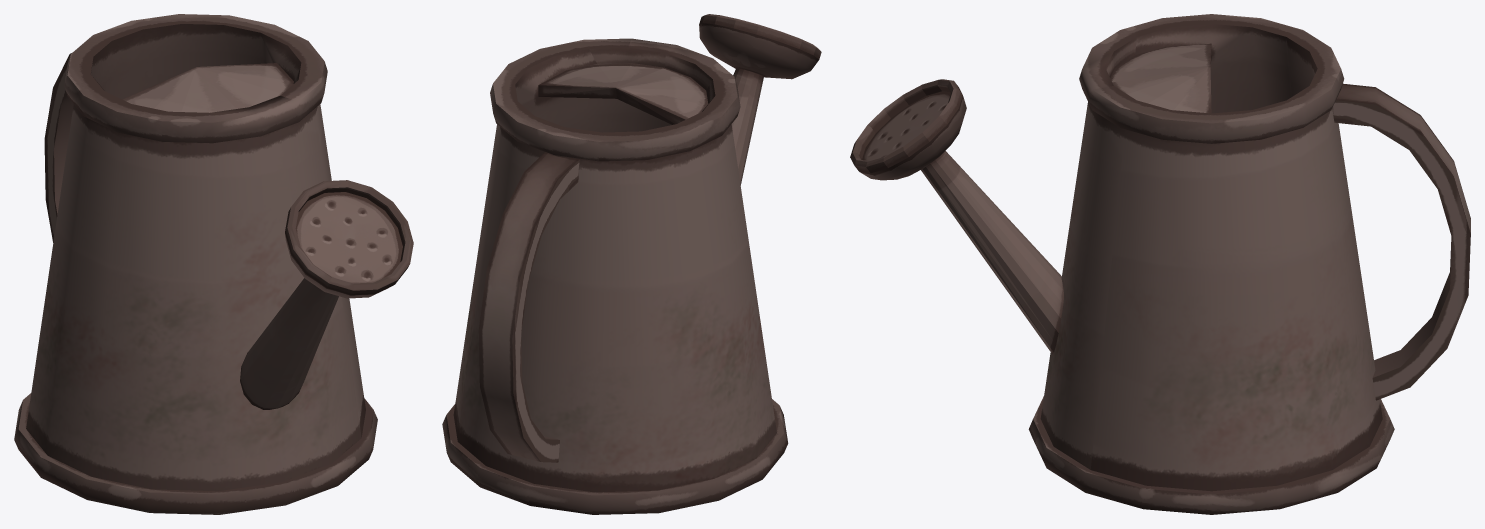
The model's file is Watering Can.fbx.
3 views of the same model, side by side, from view 1: azimuth 30°, elevation 25°; view 2: azimuth 150°, elevation 25°; view 3: azimuth 270°, elevation 25° (orthographic). The views are drawn at different scales.
Visible parts, largest first — view 1: Watercan Body, Nozzle, handle; view 2: Watercan Body, handle, Nozzle; view 3: Watercan Body, Nozzle, handle.
Part boxes in pixels (<box>): Watercan Body: <box>14,14,377,514</box>; Nozzle: <box>240,180,413,409</box>; handle: <box>44,53,73,242</box>; Watercan Body: <box>442,38,788,514</box>; handle: <box>478,152,579,462</box>; Nozzle: <box>699,14,821,185</box>; Watercan Body: <box>1028,14,1394,514</box>; Nozzle: <box>850,79,1063,354</box>; handle: <box>1332,83,1470,400</box>.
Bounding box in the file's own units: 45.43 × 51.02 × 77.04.
Materials: 3 (3 with a texture image).
